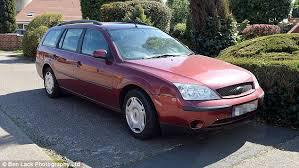bonnet-dent: (143, 53, 232, 82)
front-bumper-dent: (160, 95, 245, 130)
